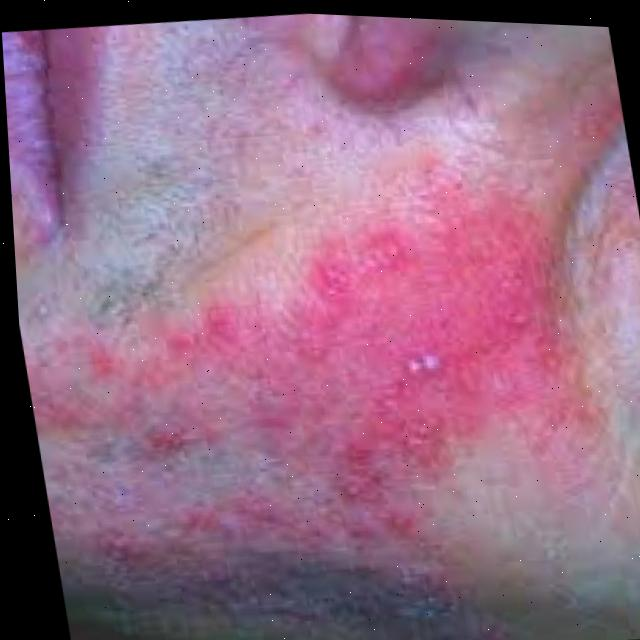Rosacea: (9, 144, 612, 602)
